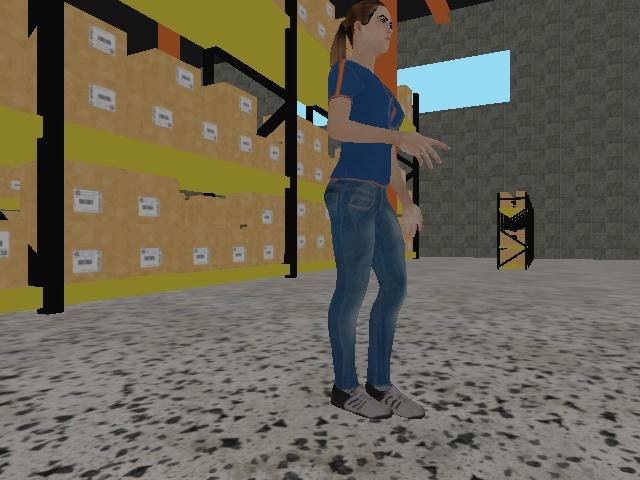person: (324, 0, 451, 419)
